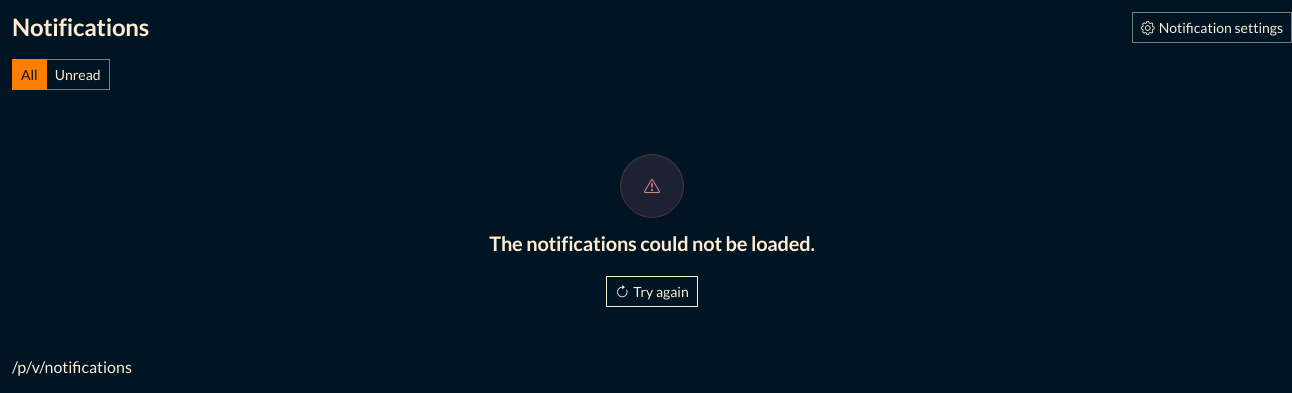
NotificationsPage › offers a retry when the inbox cannot be read
Expected: the text "The notifications could not be loaded." is shown, top-left (489, 230), bottom-right (815, 256)
Click the button "Try again" at (652, 292), box top-left (606, 276), bottom-right (698, 307)
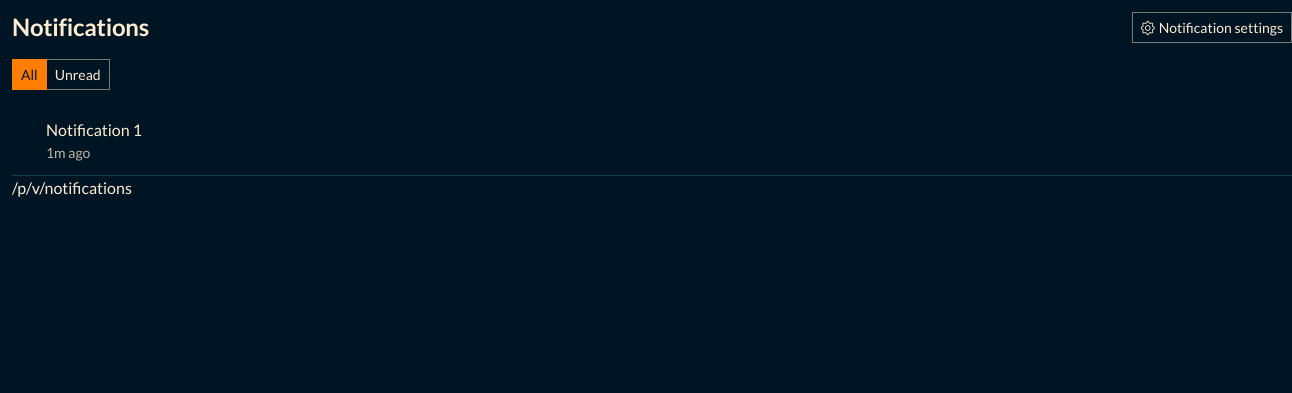
Expected: the link "Notification 1 1m ago" is shown, top-left (12, 106), bottom-right (1291, 176)
